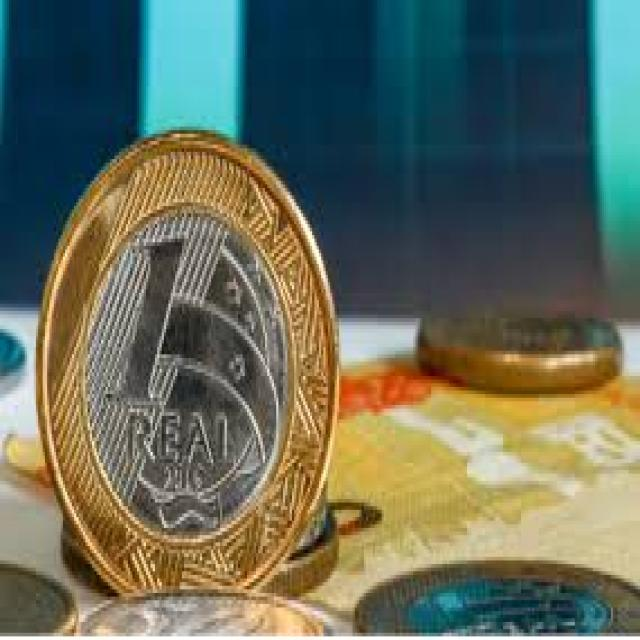1 real: (42, 140, 336, 592)
